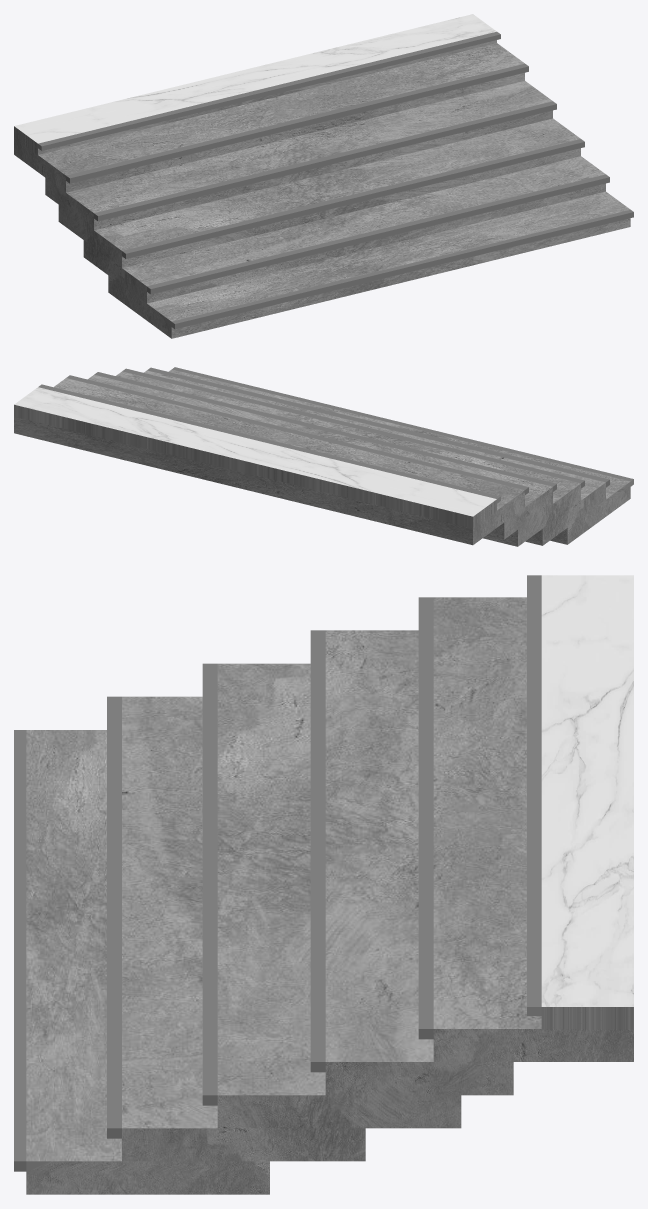
The model's file is Escaleras.fbx.
3 renders of one model, top to bottom at view 1: azimuth 30°, elevation 25°; view 2: azimuth 150°, elevation 25°; view 3: azimuth 270°, elevation 25°, orthographic. The views are drawn at different scales.
Parts seen in each view (by area): view 1: Cube; view 2: Cube; view 3: Cube.
Boxes of the visible parts, left/top/right/bottom form: Cube: left=14, top=14, right=633, bottom=338; Cube: left=14, top=367, right=633, bottom=546; Cube: left=14, top=575, right=633, bottom=1194.
Bounding box in the file's own units: 800 × 162 × 486.
Materials: 3 (3 with a texture image).
